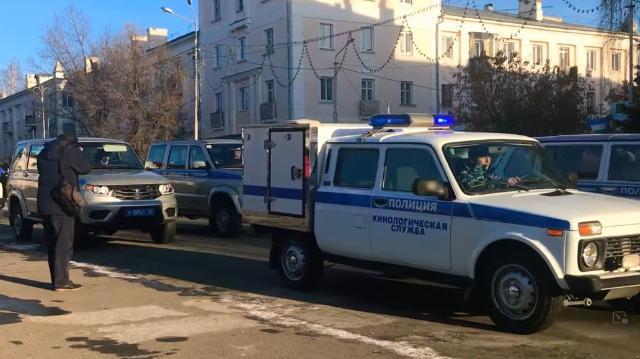police car: (240, 108, 638, 336), (7, 131, 170, 249), (146, 137, 242, 241)
